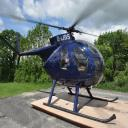helicopter: (5, 1, 120, 123)
